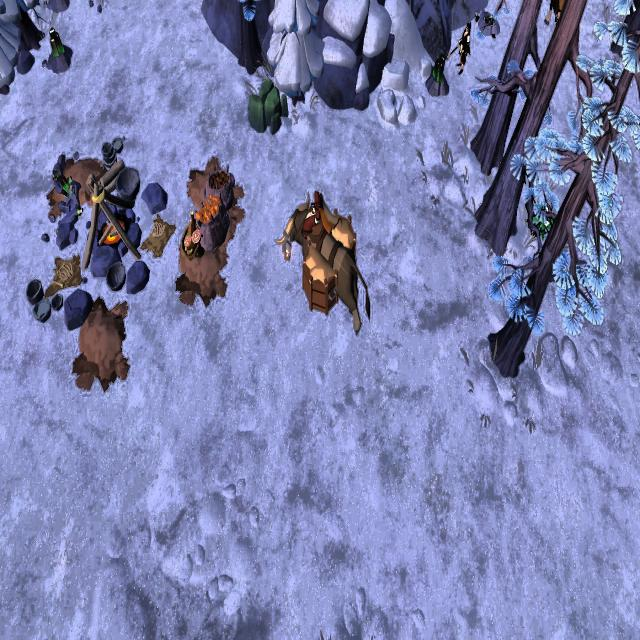fiber_t3: (530, 202, 557, 245)
ore_t3: (46, 24, 65, 60), (432, 51, 447, 82)
rock_t3: (243, 77, 291, 142)
